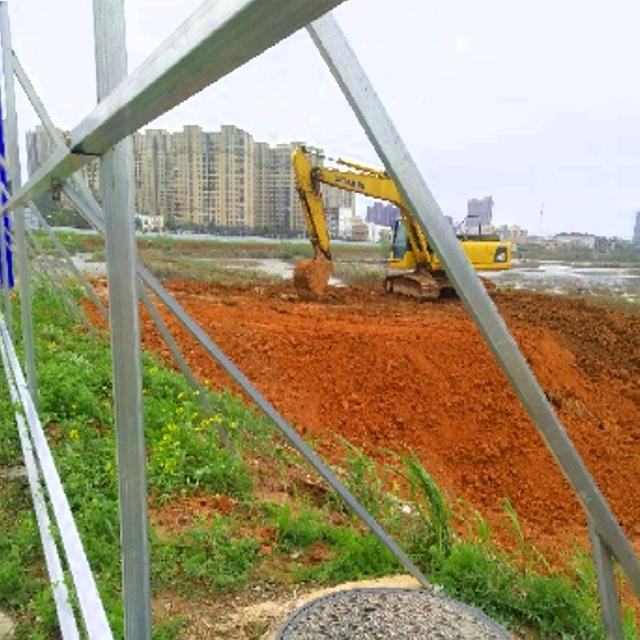good: (270, 585, 526, 640)
